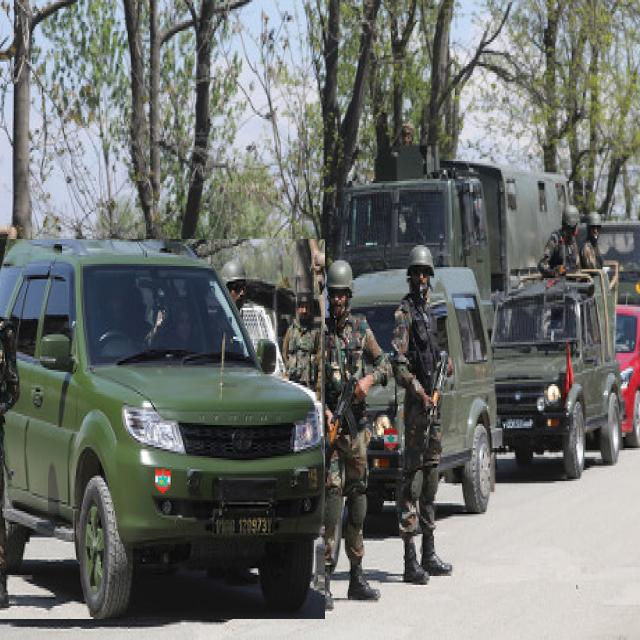car: (0, 240, 325, 619), (492, 270, 619, 477)
truck: (340, 145, 569, 322)
